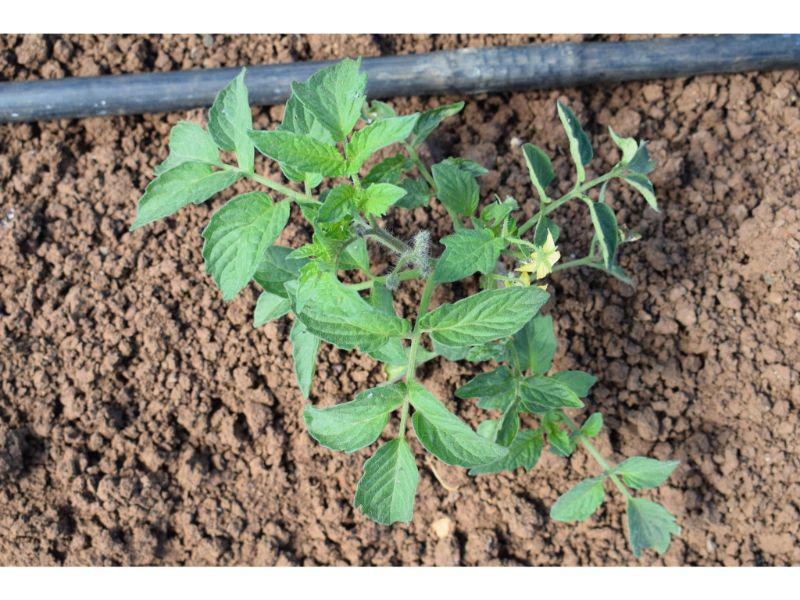tomato: (127, 57, 684, 555)
